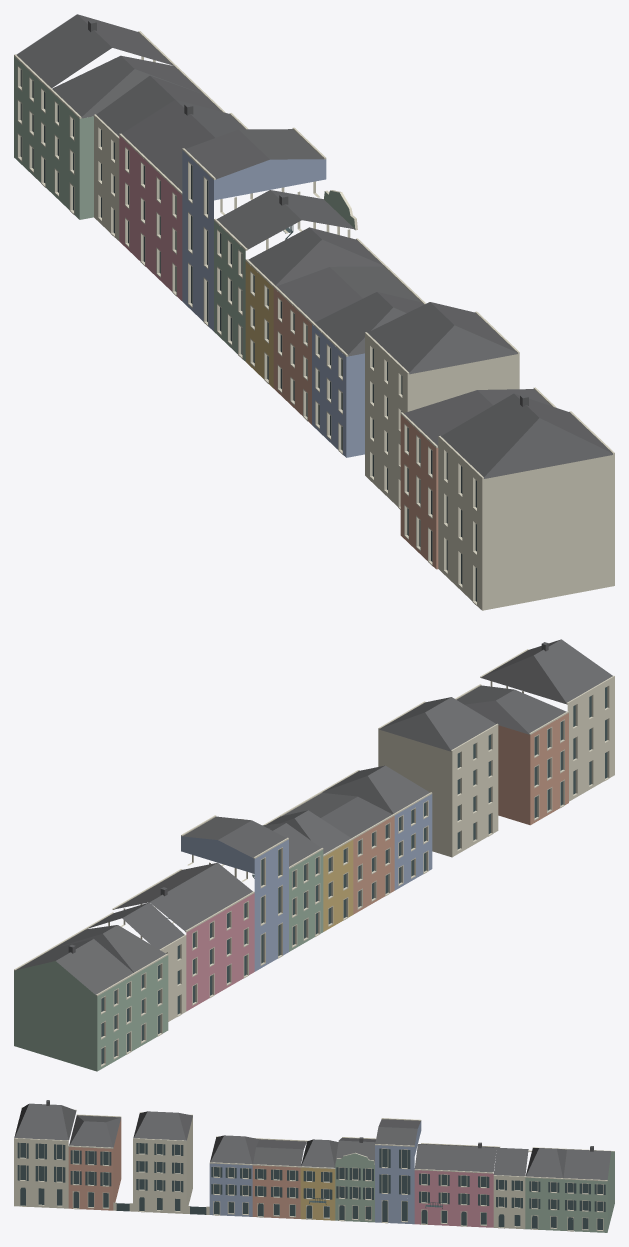
The model's file is rainbow-row-charleston-far.glb.
3 views of the same model, one above another, from view 1: azimuth 30°, elevation 25°; view 2: azimuth 150°, elevation 25°; view 3: azimuth 270°, elevation 25° (orthographic). The views are drawn at different scales.
Parts seen in each view (by area): view 1: rainbow-row-charleston-0-roof, rainbow-row-charleston-0-cream, rainbow-row-charleston-0-blue, rainbow-row-charleston-0-green, rainbow-row-charleston-0-peach, rainbow-row-charleston-0-pink, rainbow-row-charleston-0-glass, rainbow-row-charleston-0-yellow; view 2: rainbow-row-charleston-0-roof, rainbow-row-charleston-0-cream, rainbow-row-charleston-0-green, rainbow-row-charleston-0-peach, rainbow-row-charleston-0-blue, rainbow-row-charleston-0-glass, rainbow-row-charleston-0-pink, rainbow-row-charleston-0-yellow; view 3: rainbow-row-charleston-0-roof, rainbow-row-charleston-0-glass, rainbow-row-charleston-0-cream, rainbow-row-charleston-0-green, rainbow-row-charleston-0-peach, rainbow-row-charleston-0-blue, rainbow-row-charleston-0-pink, rainbow-row-charleston-0-yellow.
Boxes of the visible parts, <box> form: rainbow-row-charleston-0-roof: <box>16,14,612,478</box>; rainbow-row-charleston-0-cream: <box>14,31,614,610</box>; rainbow-row-charleston-0-blue: <box>182,150,364,457</box>; rainbow-row-charleston-0-green: <box>14,56,355,361</box>; rainbow-row-charleston-0-peach: <box>273,288,438,569</box>; rainbow-row-charleston-0-pink: <box>119,136,182,300</box>; rainbow-row-charleston-0-glass: <box>20,69,476,601</box>; rainbow-row-charleston-0-yellow: <box>245,261,273,388</box>; rainbow-row-charleston-0-roof: <box>16,639,612,994</box>; rainbow-row-charleston-0-cream: <box>14,649,614,1066</box>; rainbow-row-charleston-0-green: <box>14,849,323,1071</box>; rainbow-row-charleston-0-peach: <box>353,713,568,914</box>; rainbow-row-charleston-0-blue: <box>181,794,432,971</box>; rainbow-row-charleston-0-glass: <box>101,687,607,1064</box>; rainbow-row-charleston-0-pink: <box>186,893,254,1011</box>; rainbow-row-charleston-0-yellow: <box>323,840,353,931</box>; rainbow-row-charleston-0-roof: <box>14,1100,610,1179</box>; rainbow-row-charleston-0-glass: <box>17,1142,605,1230</box>; rainbow-row-charleston-0-cream: <box>14,1107,614,1231</box>; rainbow-row-charleston-0-green: <box>335,1151,614,1232</box>; rainbow-row-charleston-0-peach: <box>68,1118,300,1218</box>; rainbow-row-charleston-0-blue: <box>209,1121,421,1224</box>; rainbow-row-charleston-0-pink: <box>414,1170,493,1227</box>; rainbow-row-charleston-0-yellow: <box>300,1167,335,1220</box>.
Bounding box in the file's own units: 24.07 × 17.74 × 106.
